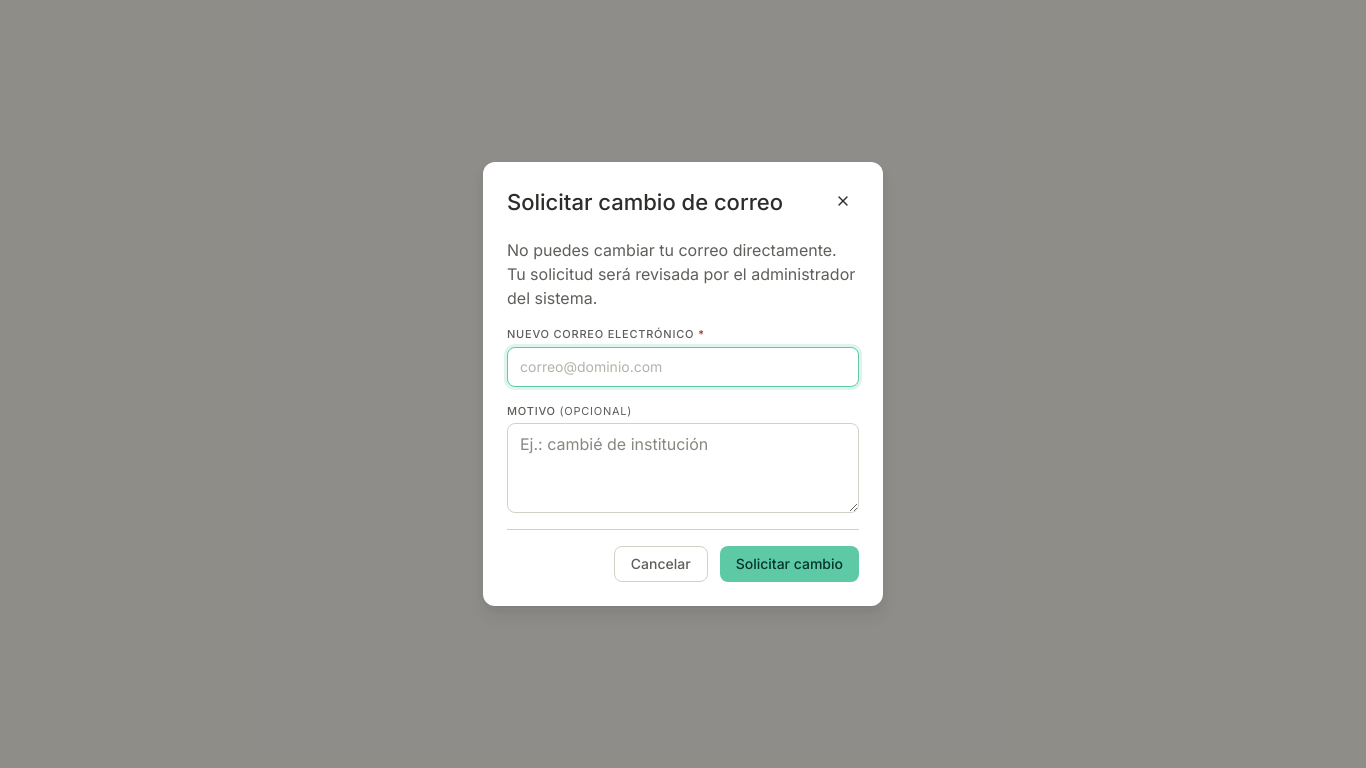
Test case: SolicitarCambioCorreoModal — comportamiento › muestra error específico ante 409 PENDING_REQUEST_EXISTS
In the field labelled "Nuevo correo electrónico*": (683, 366) [507,346,859,386], type "x@x.com"
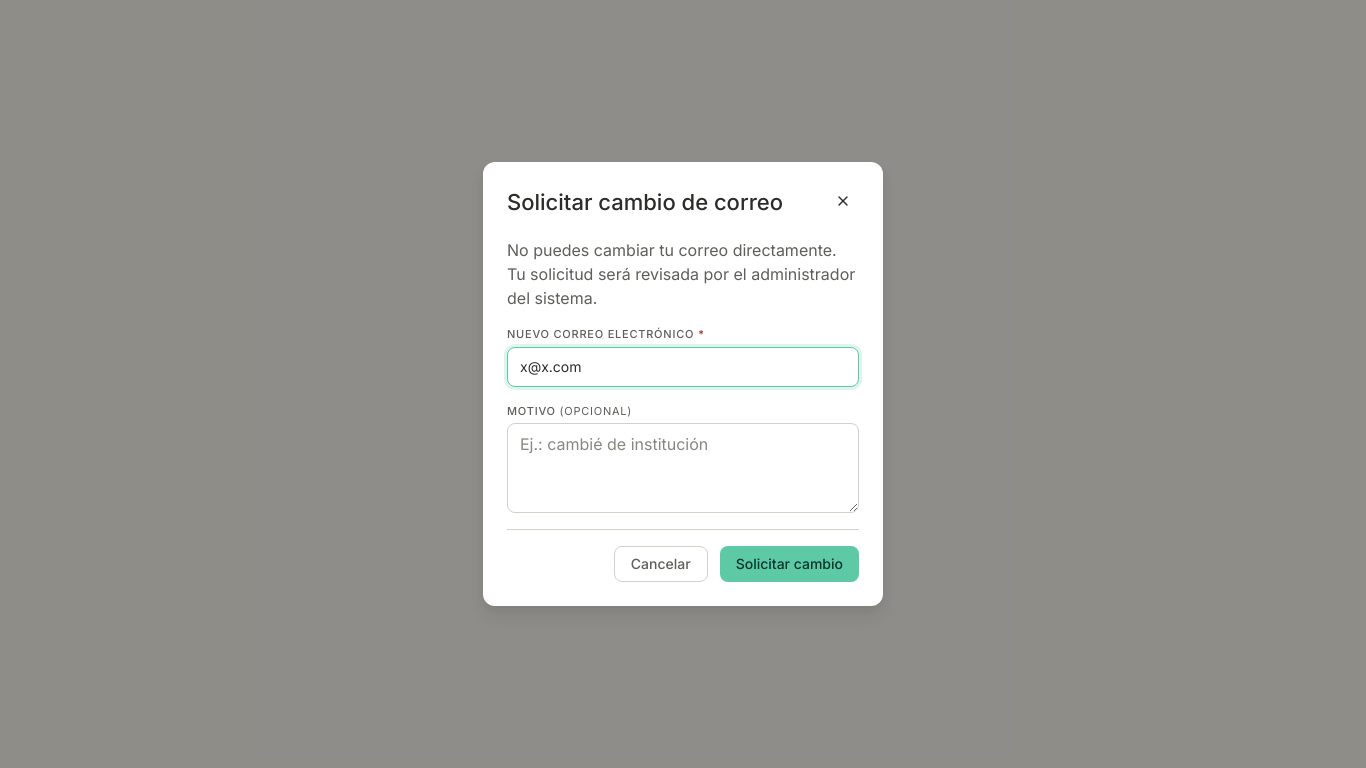
Click the button "Solicitar cambio": (789, 564) [720,546,859,582]
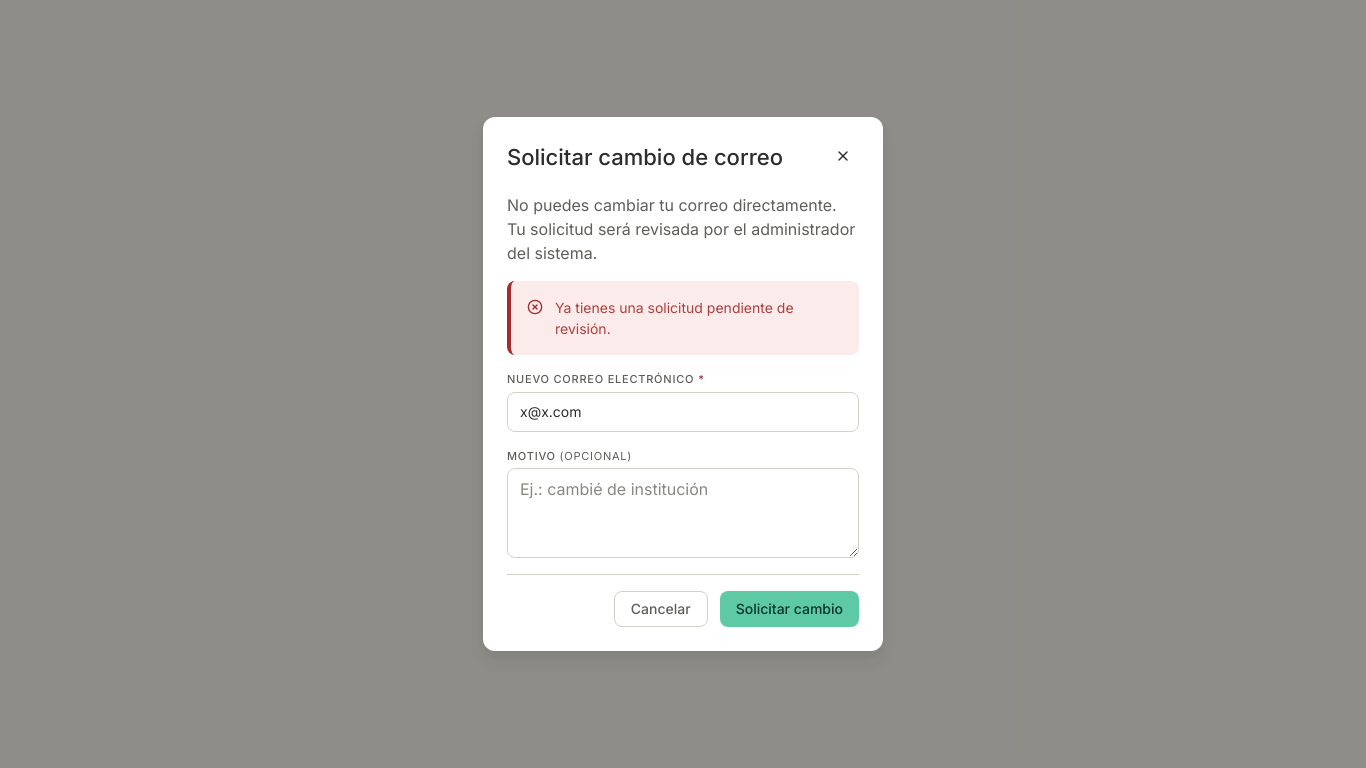
Result: the text "Ya tienes una solicitud pendiente de revisión." is shown at [555,299,794,337]
